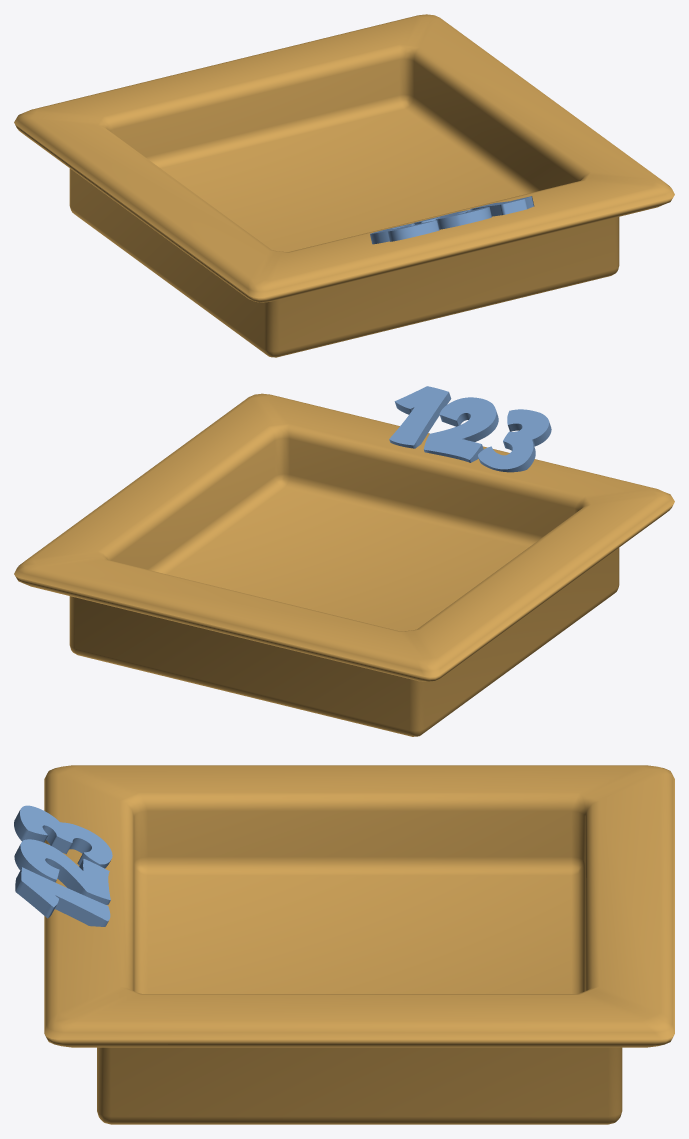
File: caixa numeros.fbx
The picture shows the model from 3 angles, top to bottom: view 1: azimuth 30°, elevation 25°; view 2: azimuth 150°, elevation 25°; view 3: azimuth 270°, elevation 25°; orthographic projection. The views are drawn at different scales.
Visible parts, largest first — view 1: Cube.012, Text.009; view 2: Cube.012, Text.009; view 3: Cube.012, Text.009.
Part boxes in pixels (x1,y1,x2,y2): Cube.012: [14, 14, 674, 357]; Text.009: [370, 196, 534, 244]; Cube.012: [14, 393, 674, 736]; Text.009: [389, 386, 551, 472]; Cube.012: [44, 765, 674, 1124]; Text.009: [14, 805, 112, 926].
Bounding box in the file's own units: 1.47 × 0.4329 × 1.54.
